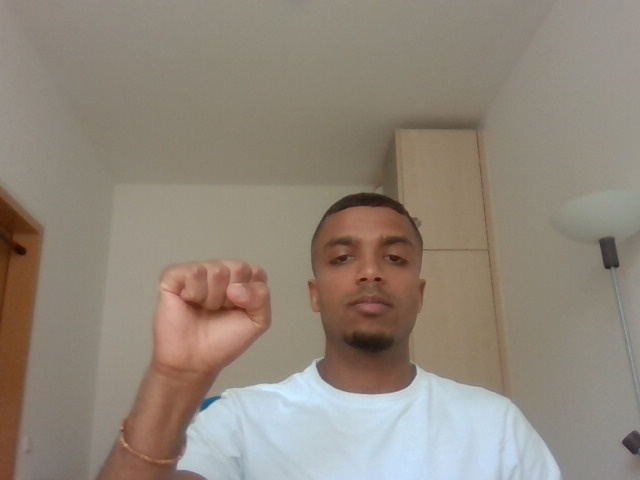maybe: (138, 242, 284, 390)
